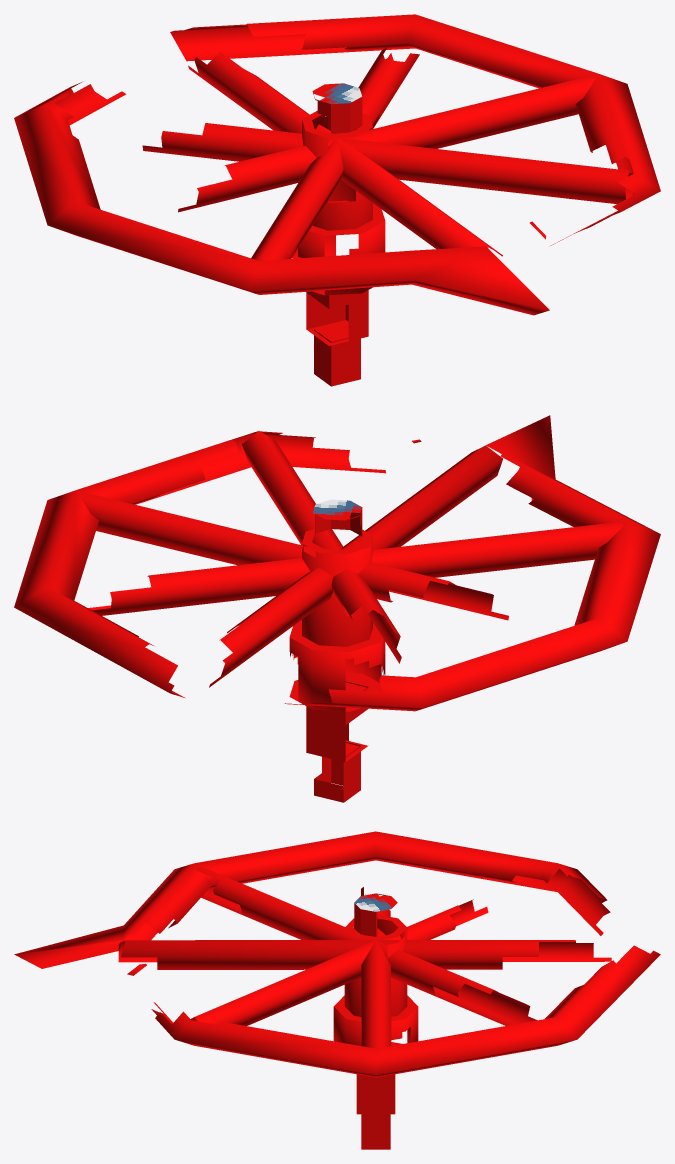
File: Value.fbx
3 renders of one model, top to bottom at view 1: azimuth 30°, elevation 25°; view 2: azimuth 150°, elevation 25°; view 3: azimuth 270°, elevation 25°, orthographic. The views are drawn at different scales.
Parts seen in each view (by area): view 1: ValveLow; view 2: ValveLow; view 3: ValveLow.
Part boxes in pixels (x1,y1,x2,y2): ValveLow: (14, 14, 660, 386); ValveLow: (14, 415, 660, 802); ValveLow: (14, 831, 660, 1149).
Size of the model in its own units: 229 by 107 by 260.
